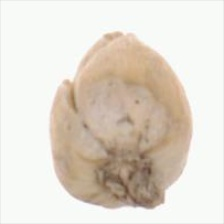L3: (59, 31, 134, 89)
L4: (49, 32, 191, 209)
